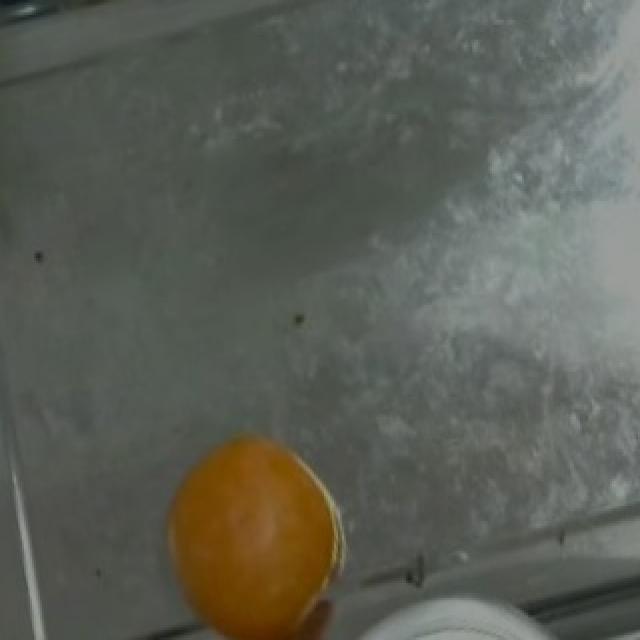Fruit: (148, 416, 356, 640)
